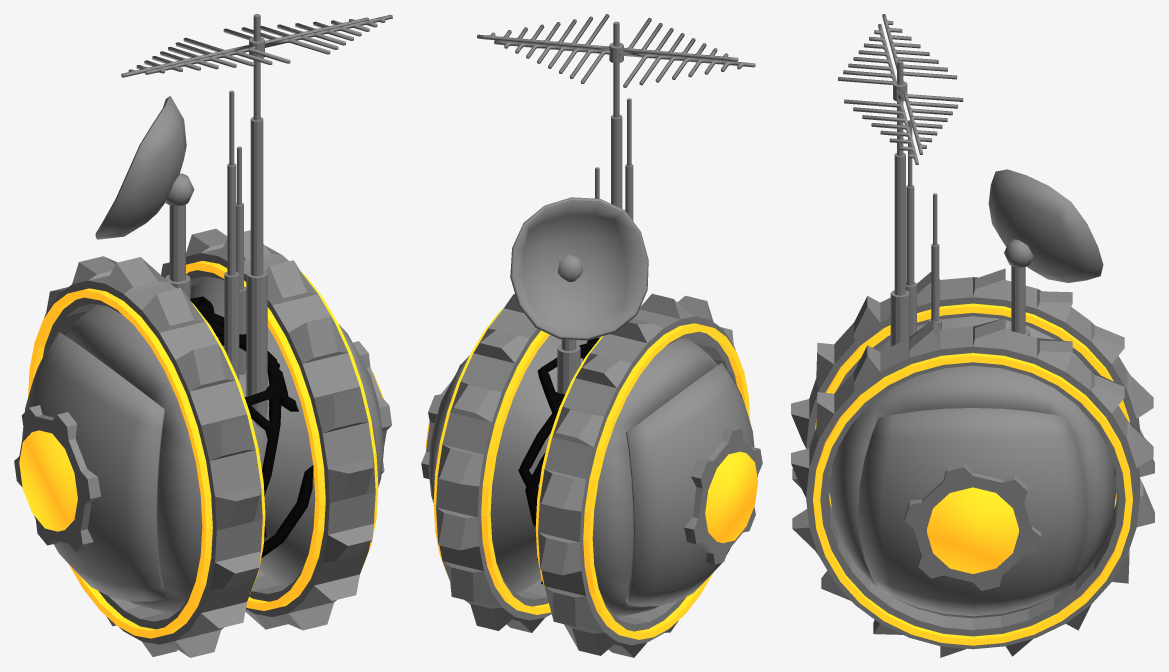
Rendered from Suicider.fbx.
3 views of the same model, side by side, from view 1: azimuth 30°, elevation 25°; view 2: azimuth 150°, elevation 25°; view 3: azimuth 270°, elevation 25° (orthographic). The views are drawn at different scales.
Visible parts, largest first — view 1: Wheels, Body, BombLeft, Radar, Cables, BombRight; view 2: Wheels, Body, BombLeft, Radar, Cables, BombRight; view 3: Wheels, BombRight, Body, Radar.
Part boxes in pixels (x1,y1,x2,y2): Wheels: [28, 228, 378, 657]; Body: [64, 14, 392, 614]; BombLeft: [14, 331, 165, 601]; Radar: [95, 96, 194, 300]; Cables: [190, 296, 313, 557]; BombRight: [339, 324, 391, 487]; Wheels: [433, 293, 750, 657]; Body: [477, 14, 755, 617]; BombLeft: [626, 362, 762, 606]; Radar: [510, 197, 648, 403]; Cables: [518, 337, 599, 584]; BombRight: [421, 355, 469, 502]; Wheels: [791, 268, 1154, 657]; BombRight: [858, 408, 1087, 616]; Body: [830, 14, 1115, 618]; Radar: [988, 169, 1103, 335].
Size of the model in its own units: 179 by 345 by 199.
